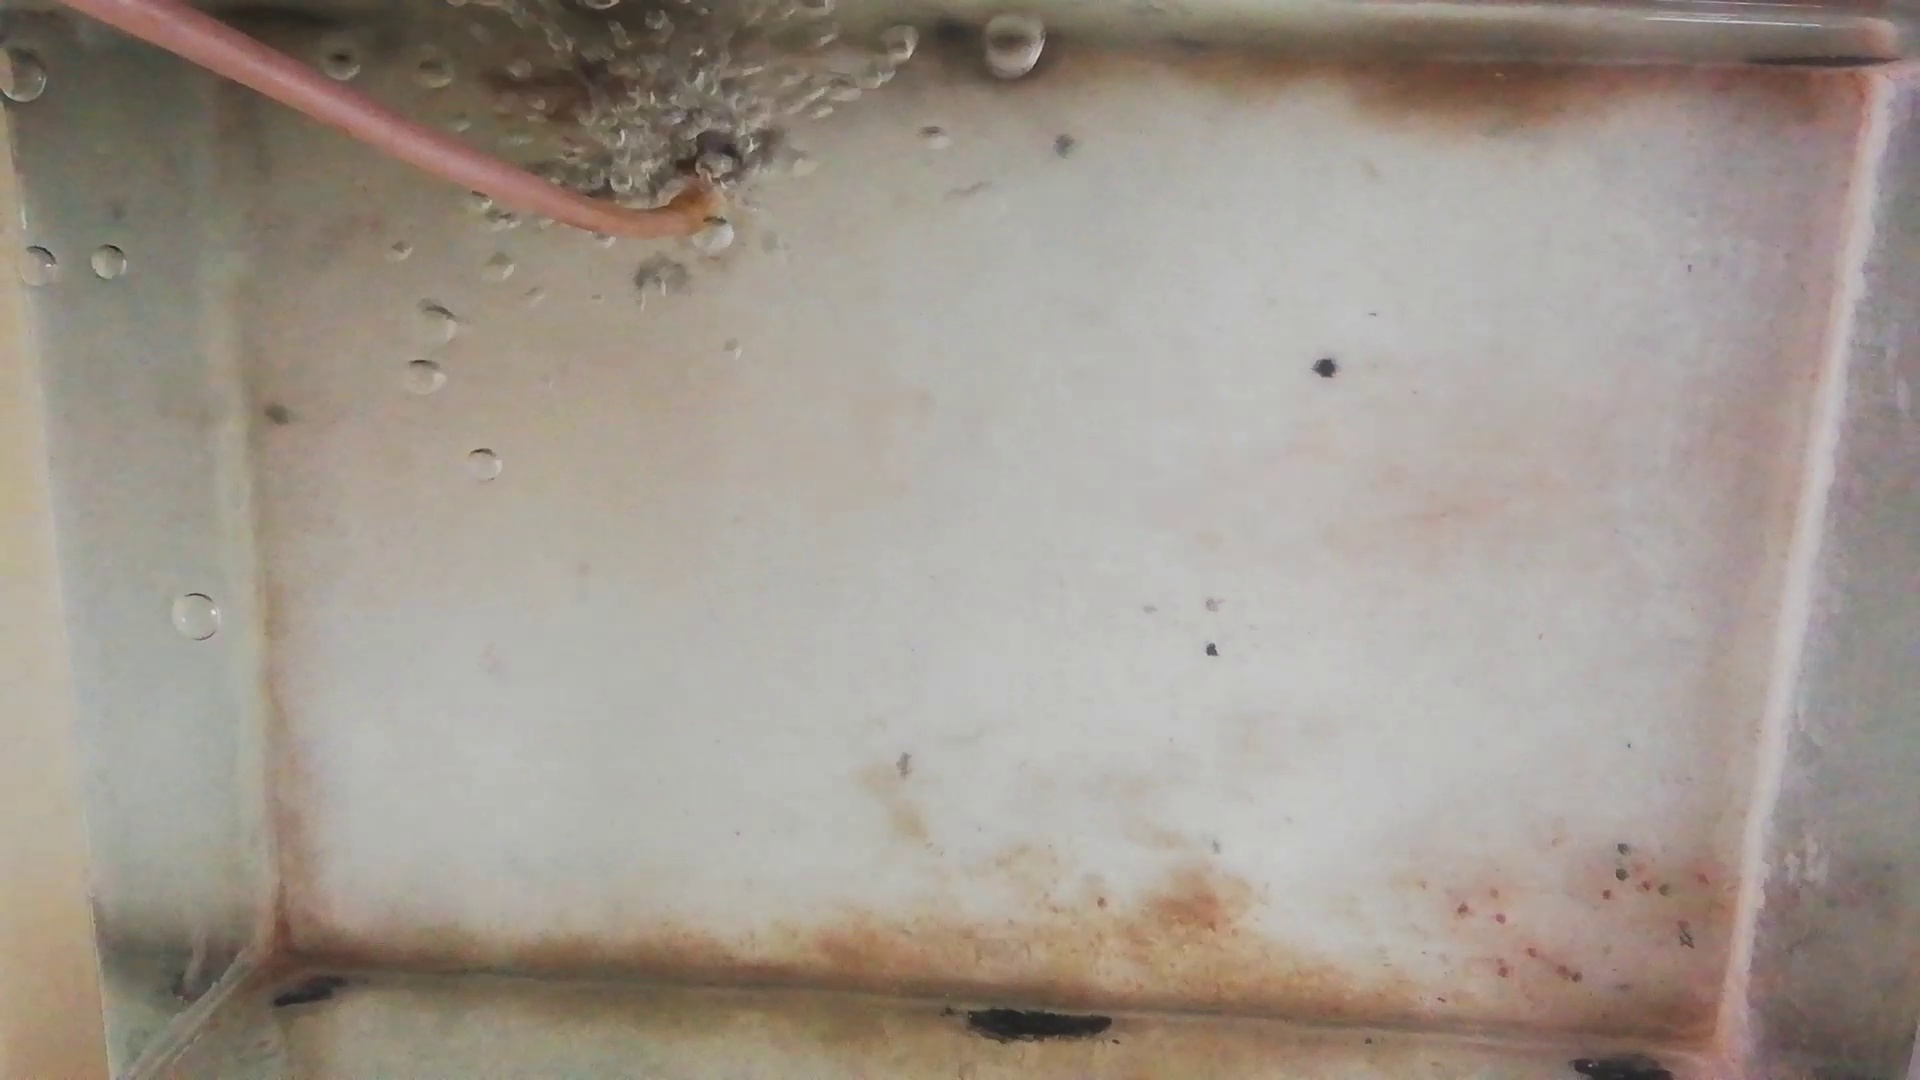fish: (480, 51, 684, 109), (560, 138, 756, 181)
